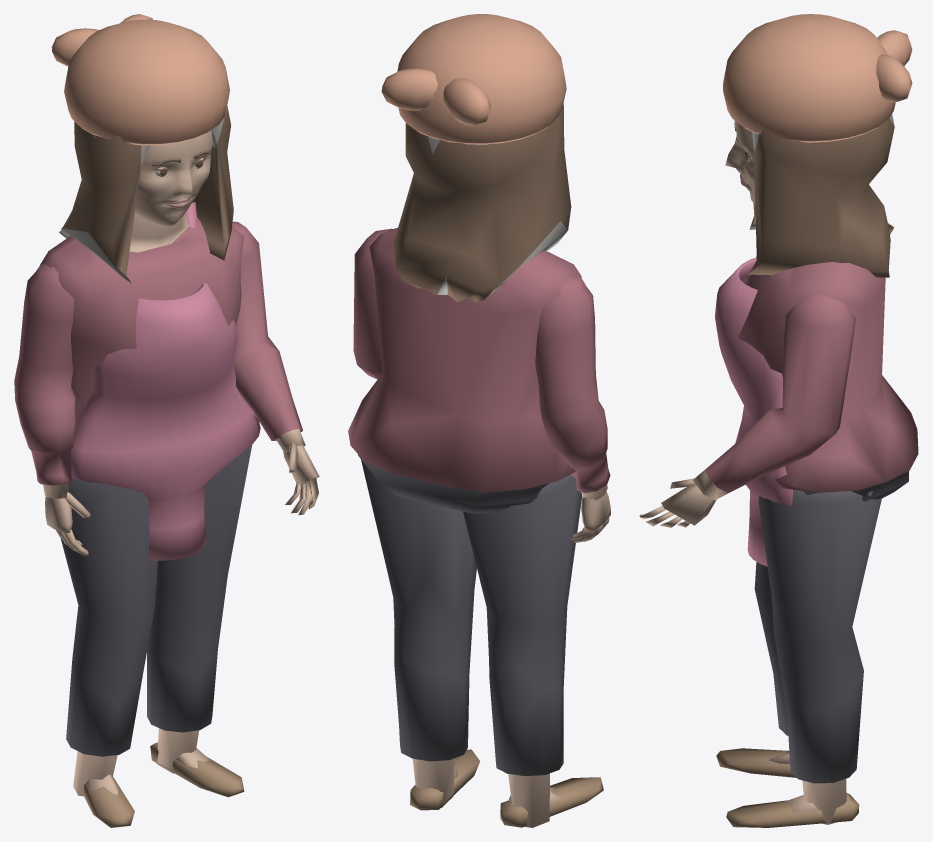
File: people-5.glb
3 views of the same model, side by side, from view 1: azimuth 30°, elevation 25°; view 2: azimuth 150°, elevation 25°; view 3: azimuth 270°, elevation 25° (orthographic). The views are drawn at different scales.
Parts seen in each view (by area): view 1: vendor_body, arm_wave_mesh; view 2: vendor_body, arm_wave_mesh; view 3: vendor_body.
Boxes of the visible parts, x1,y1,x2,y2 form: vendor_body: (39, 14, 319, 827); arm_wave_mesh: (14, 264, 90, 555); vendor_body: (348, 14, 603, 827); arm_wave_mesh: (535, 276, 610, 542); vendor_body: (639, 14, 918, 827).
Size of the model in its own units: 0.5085 by 1.5 by 0.4915.
